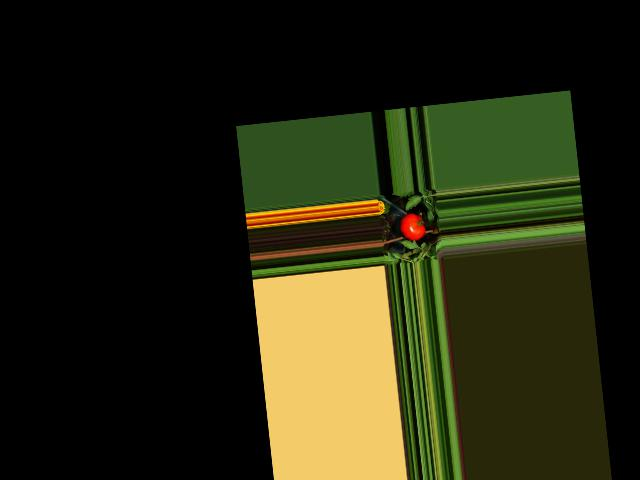tomato: (398, 211, 426, 242)
